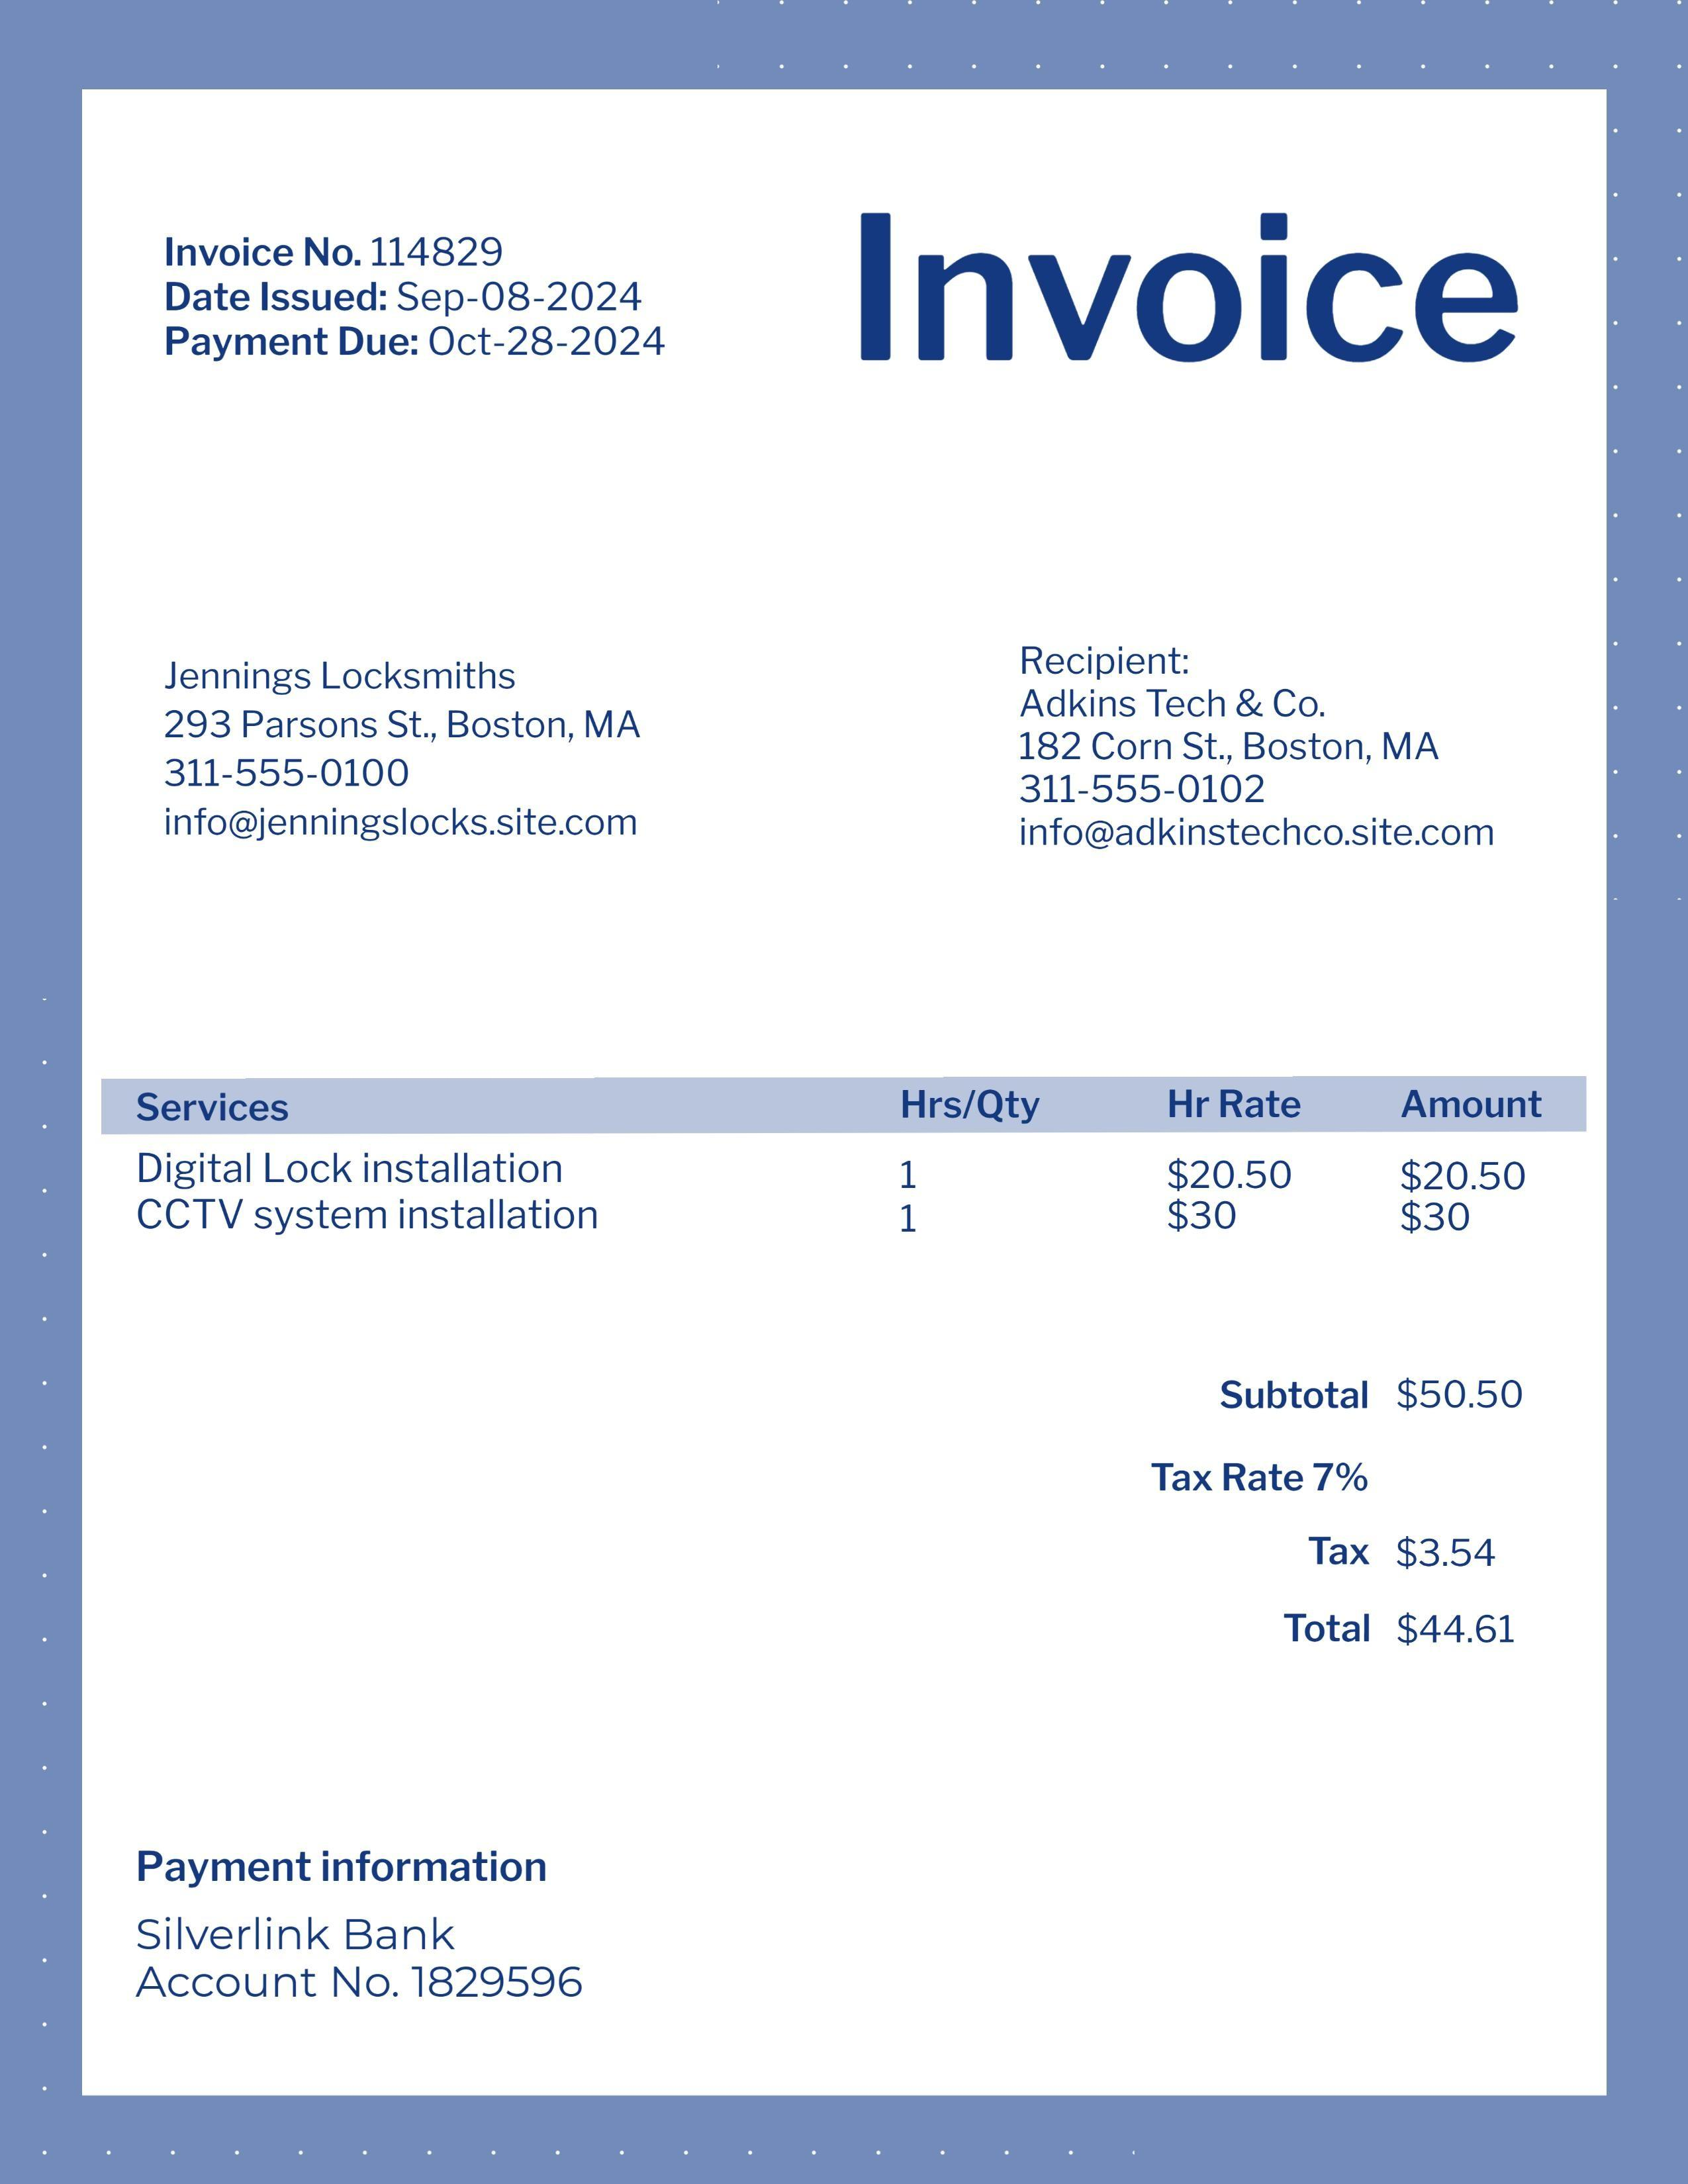ROI: (101, 1076, 1589, 1252), (1151, 1347, 1555, 1663), (137, 642, 677, 862), (1002, 635, 1511, 865), (121, 1833, 638, 2039), (147, 216, 683, 369)
